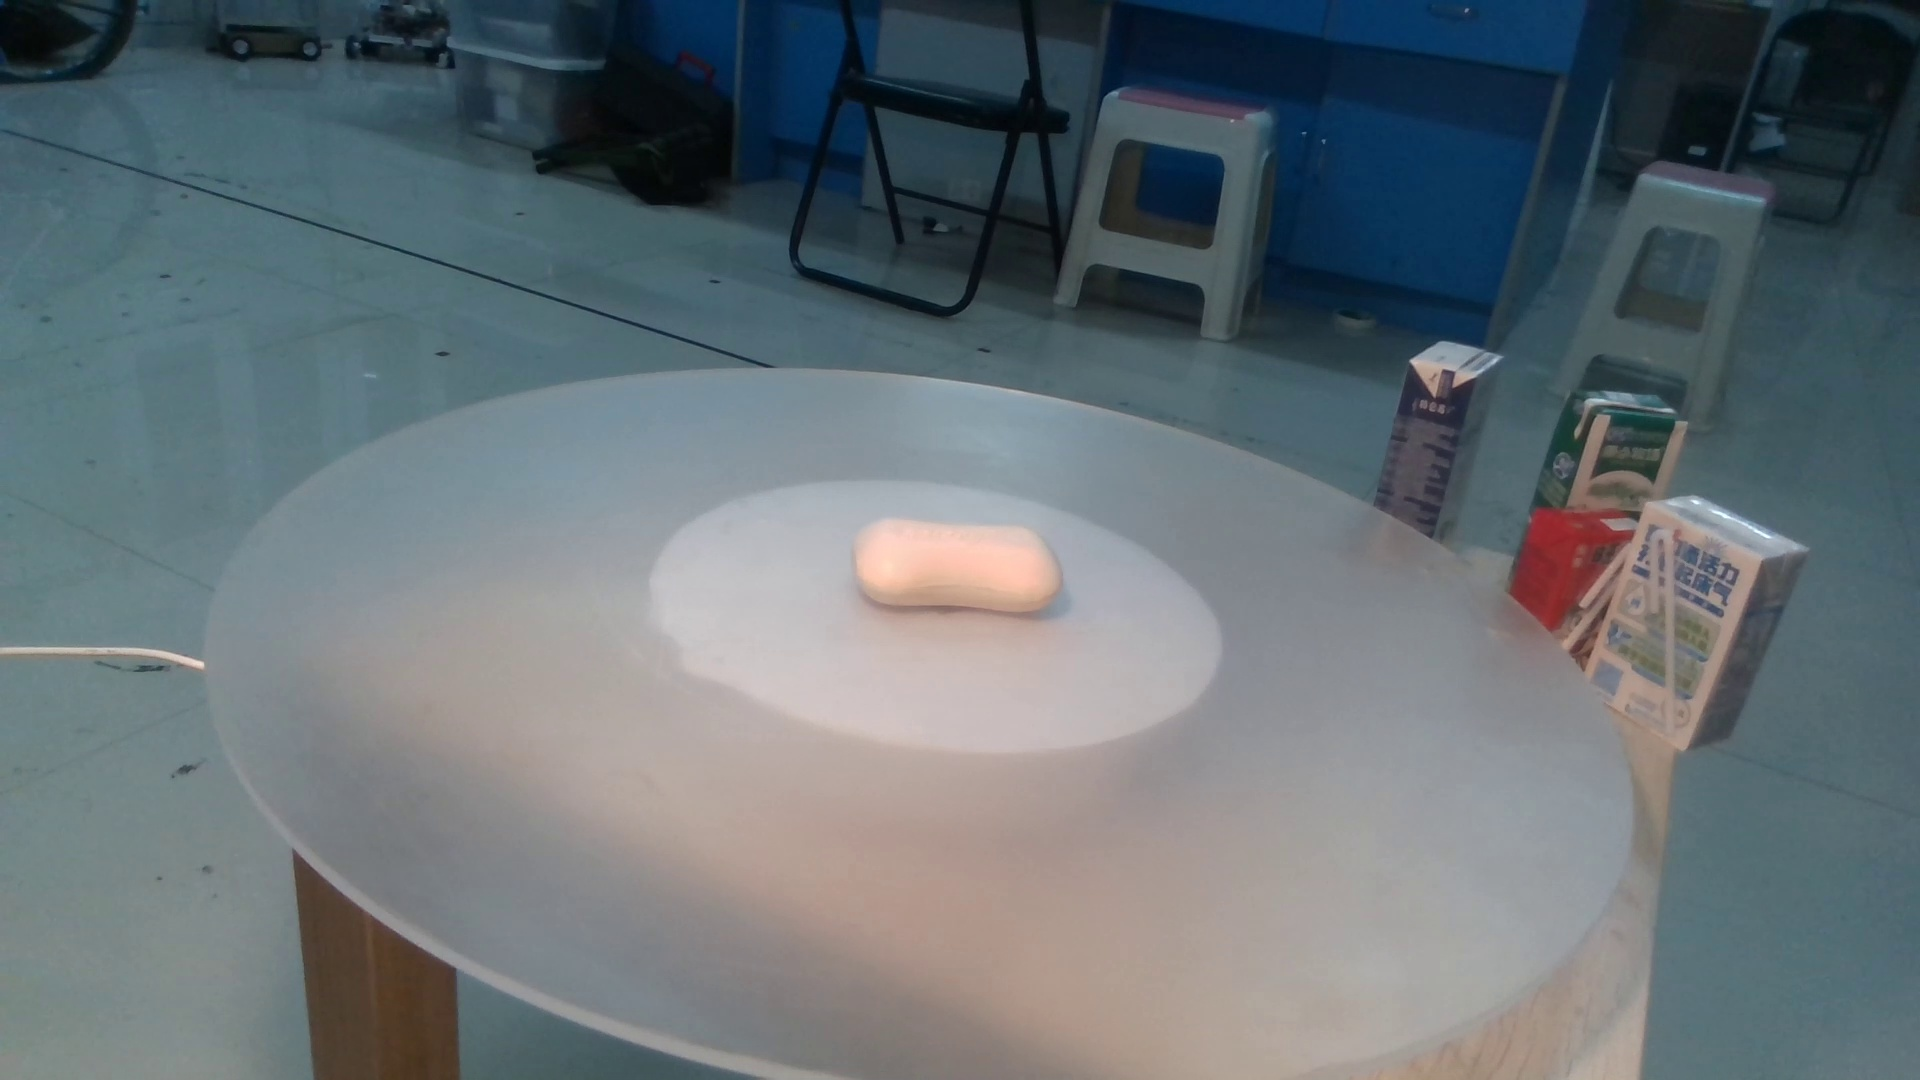CA003_1: (774, 491, 1097, 663)
